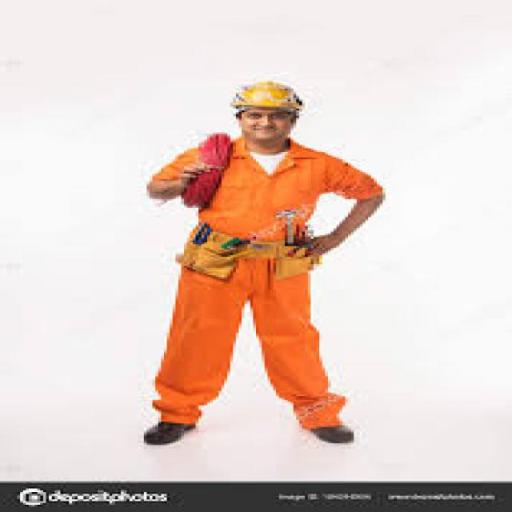helmet: (222, 74, 314, 120)
vest: (178, 136, 382, 258)
